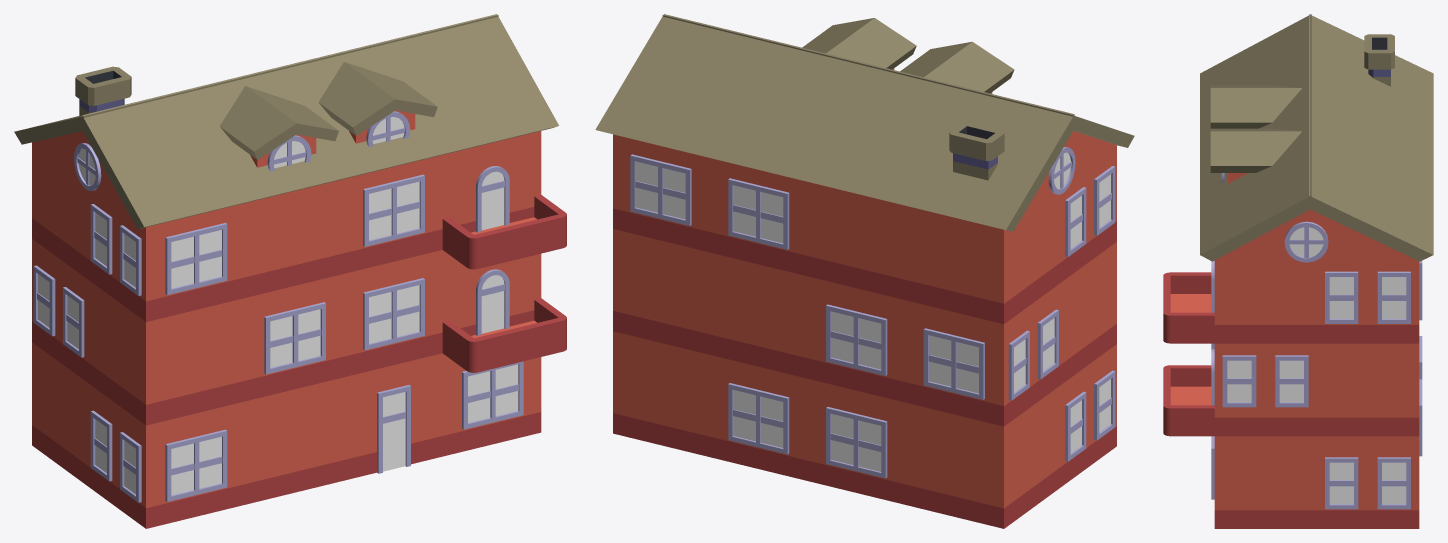
The model's file is building3.fbx.
3 views of the same model, side by side, from view 1: azimuth 30°, elevation 25°; view 2: azimuth 150°, elevation 25°; view 3: azimuth 270°, elevation 25° (orthographic). The views are drawn at different scales.
Parts seen in each view (by area): view 1: mergedBlocks; view 2: mergedBlocks; view 3: mergedBlocks.
Part boxes in pixels (x1=…): mergedBlocks: x1=14, y1=14, x2=566, y2=528; mergedBlocks: x1=595, y1=14, x2=1134, y2=528; mergedBlocks: x1=1163, y1=14, x2=1433, y2=528.
Size of the model in its own units: 42 by 36.41 by 26.41.
